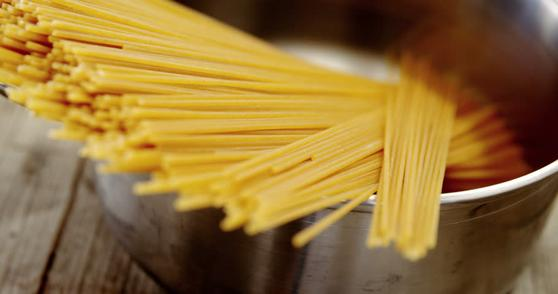spaghetti: (1, 1, 369, 216), (371, 39, 453, 259)
